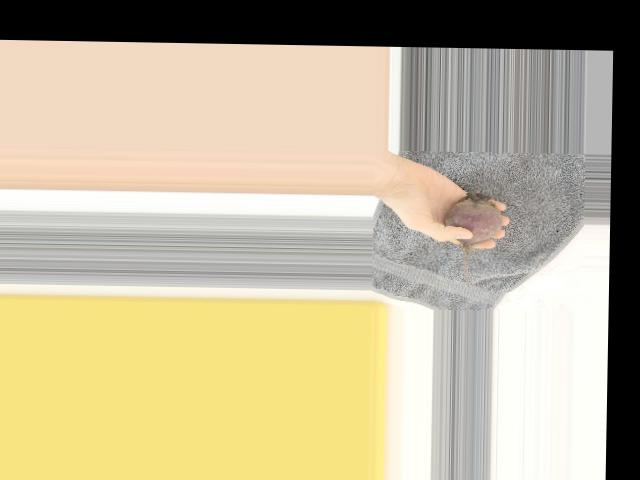beet: (443, 191, 503, 287)
